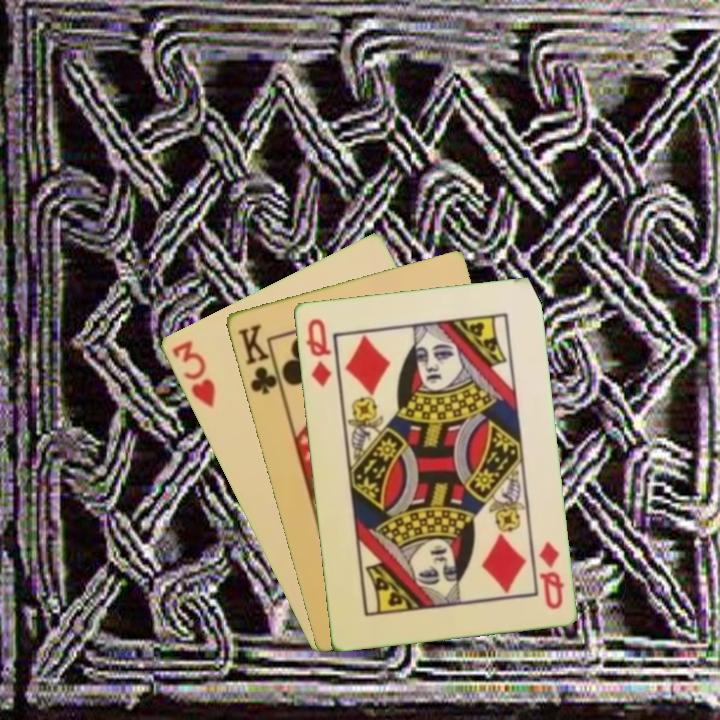3h: (168, 336, 218, 410)
Kc: (234, 320, 284, 397)
Qd: (301, 314, 334, 389), (535, 537, 567, 612)
